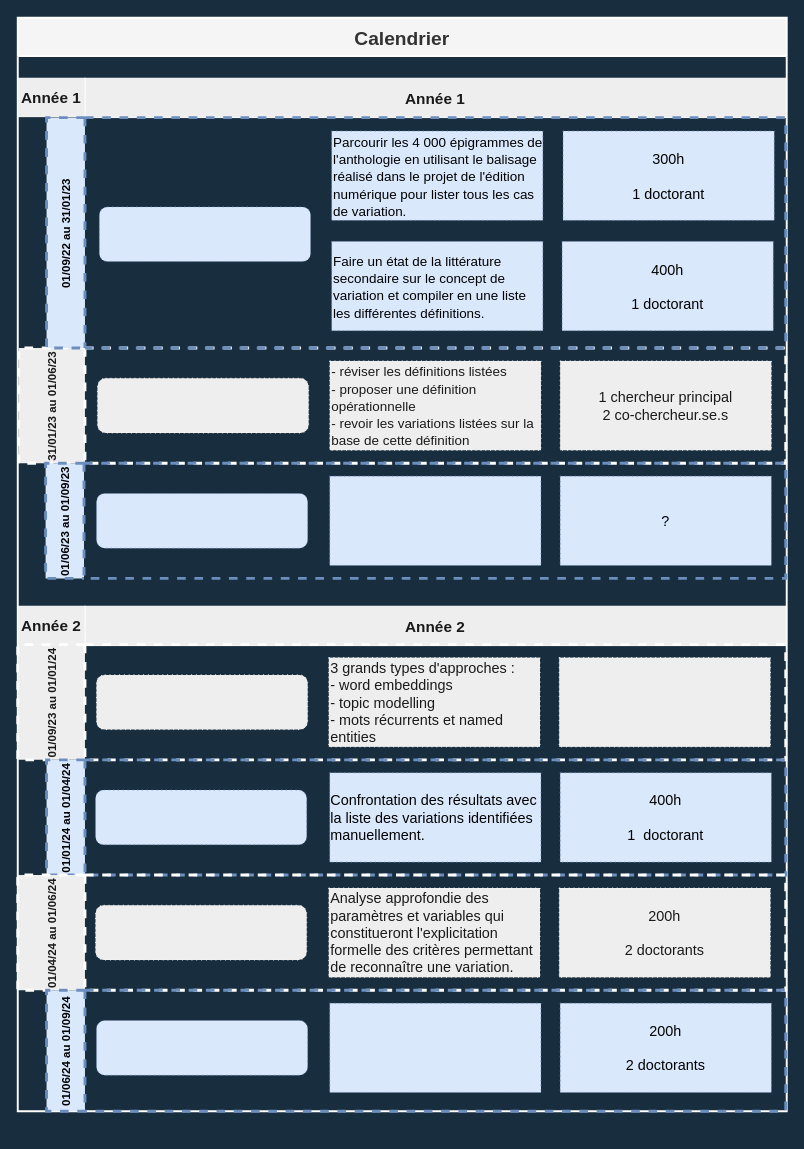
Image size: 804x1149. Some labels were removed from this diagram. The shapes that lost their labels are listed below. From the top down, each one's centre as x and y in pixels, then its label:
At point 204,234: "Définir le concept de variation".
At point 202,405: "Vérification de la liste des variations".
At point 202,520: "Pré-traitement du texte".
At point 435,520: "Préparation du texte : - normalisation - tokenisation - lemmatisation".
At point 202,702: "Expérimentations des modèles".
At point 664,702: "1200h 3 doctorants 3 maîtrisants".
At point 201,817: "Analyse des résultats".
At point 201,932: "Finalisation des modélisations algorithmiques".
At point 202,1047: "Préparation à la production et à la diffusion des résultats".
At point 435,1047: "Déconstruction et explication de l'algorithme final dans toutes ses composantes.".
